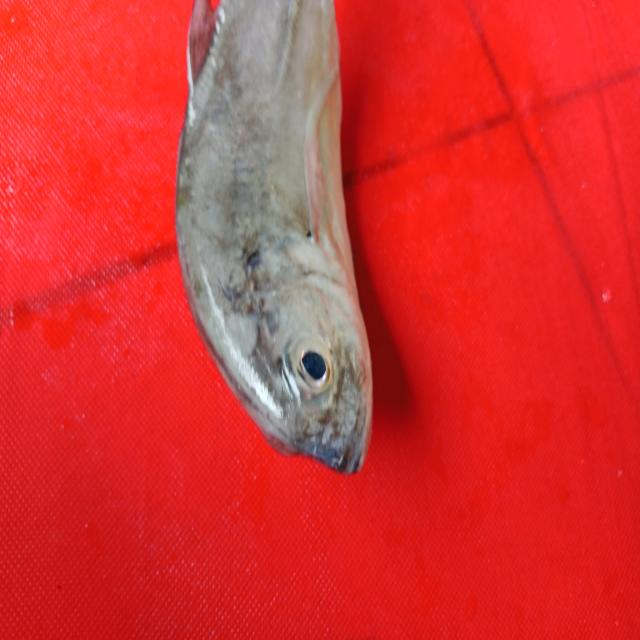ikan: (170, 7, 405, 478)
